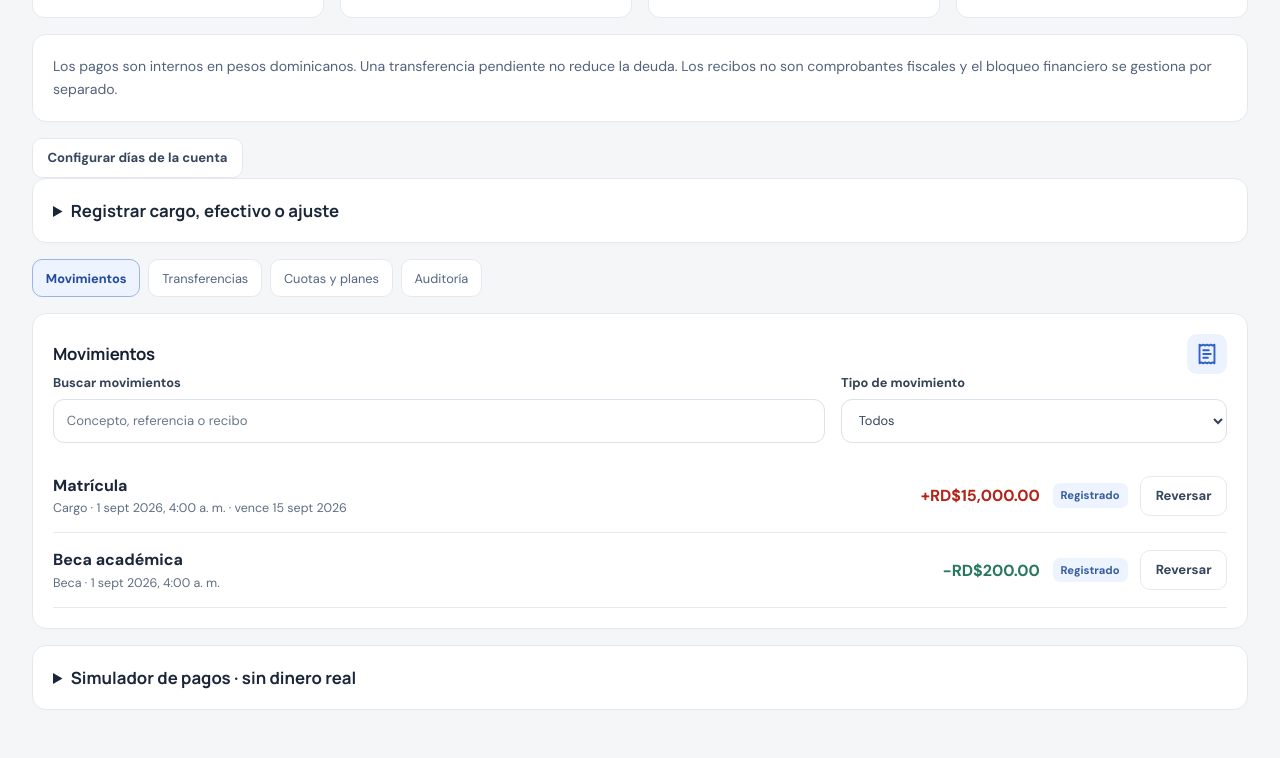
it: simulates a result without posting to the real payment endpoint
(page scrolled)
Step 1. Click the heading "Simulador de pagos · sin dinero real" → (213, 678), box top-left (71, 666), bottom-right (356, 689)
(page scrolled)
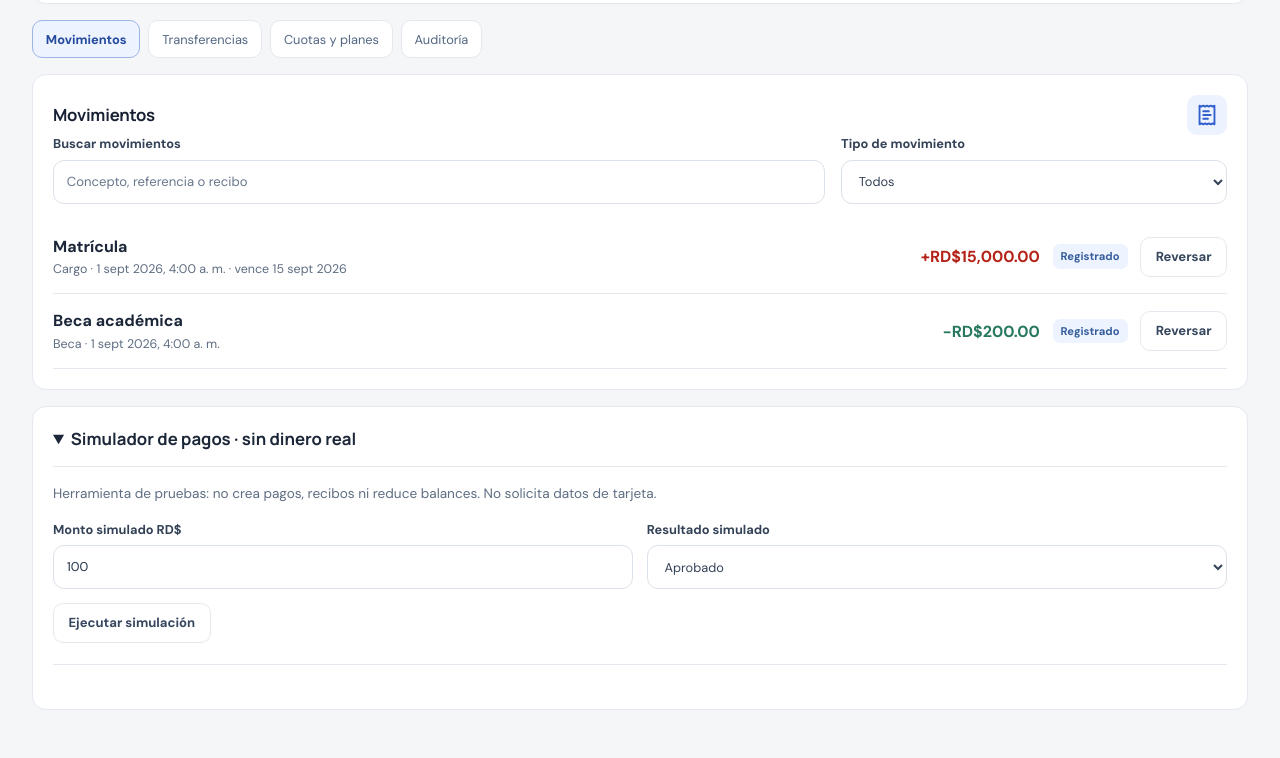
Step 2. Click the button "Ejecutar simulación" → (132, 623), box top-left (53, 603), bottom-right (210, 643)
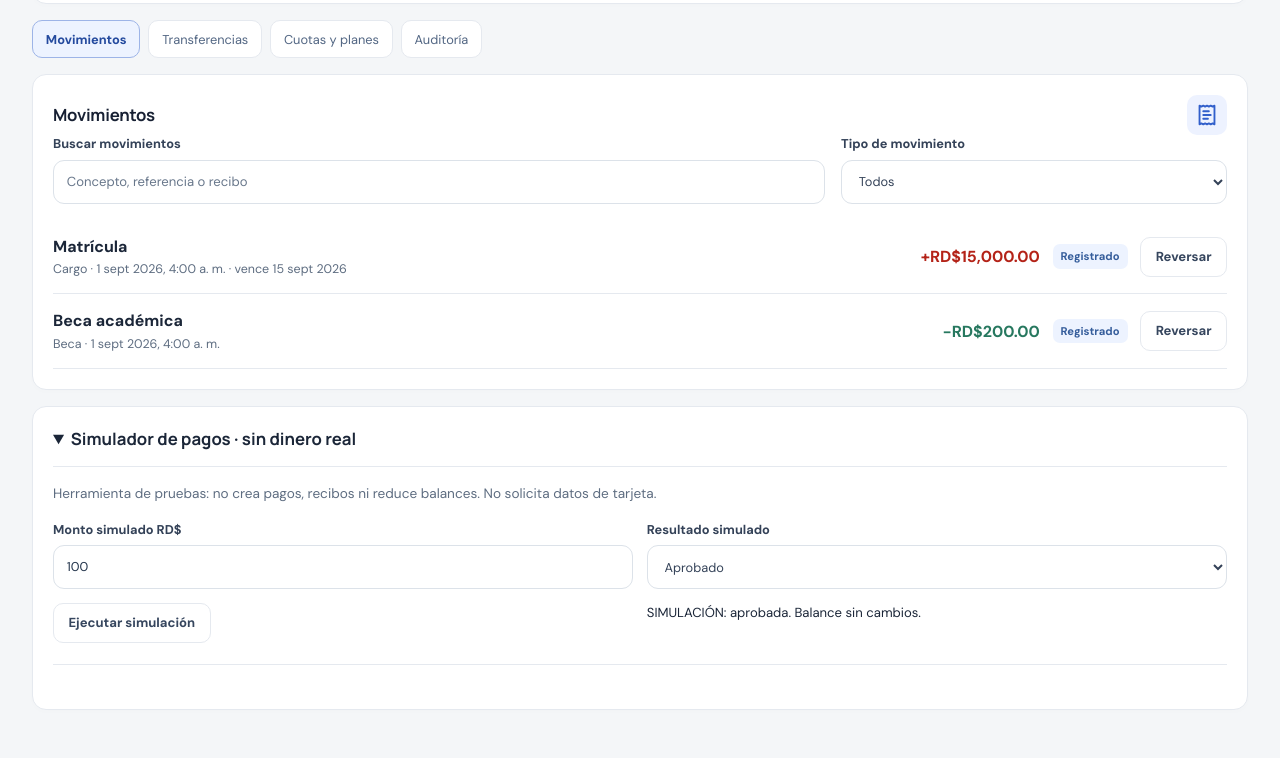
Now the text "SIMULACIÓN: aprobada. Balance sin cambios." is shown, box top-left (647, 604), bottom-right (921, 621)
